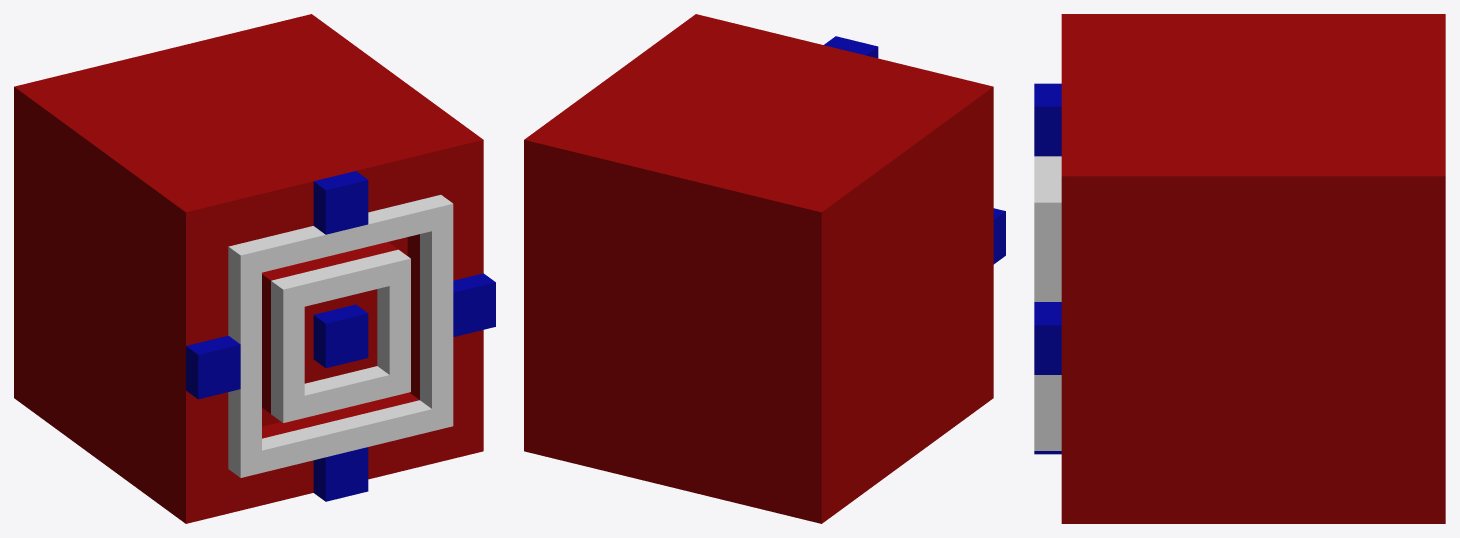
The model's file is BlockMonster.obj.
3 renders of one model, left to right at view 1: azimuth 30°, elevation 25°; view 2: azimuth 150°, elevation 25°; view 3: azimuth 270°, elevation 25°, orthographic. The views are drawn at different scales.
Size of the model in its own units: 0.875 by 0.875 by 0.9375.
Materials: 1 (1 with a texture image).
